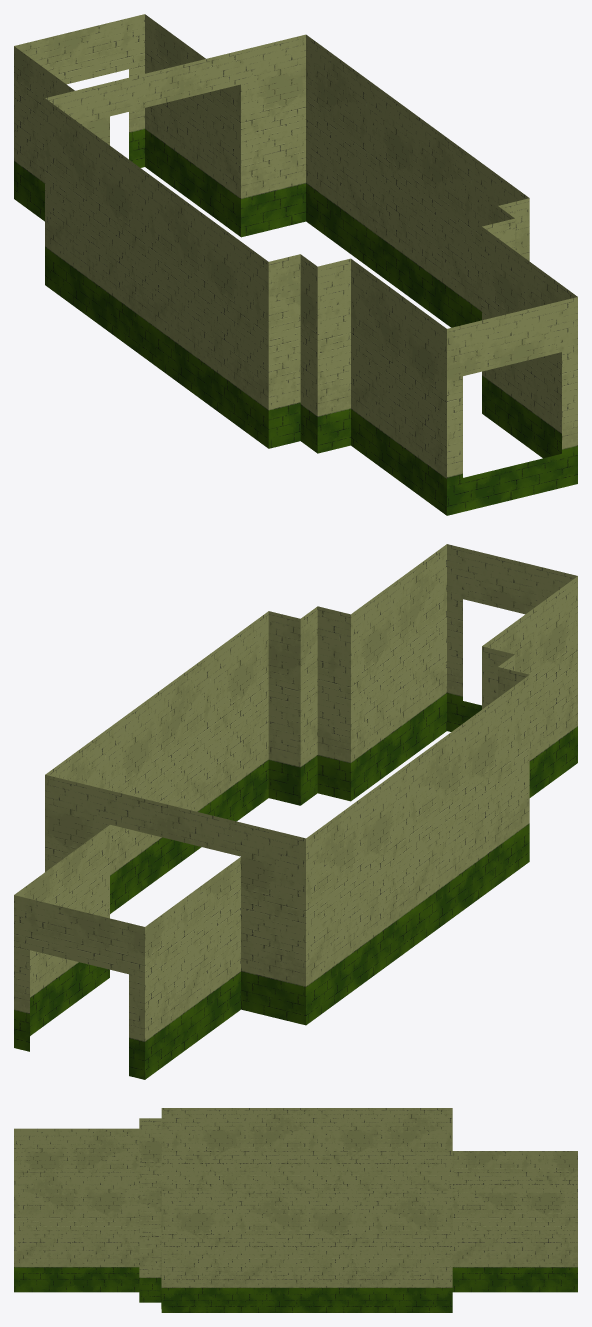
The model's file is Wall_New.fbx.
3 renders of one model, top to bottom at view 1: azimuth 30°, elevation 25°; view 2: azimuth 150°, elevation 25°; view 3: azimuth 270°, elevation 25°, orthographic. The views are drawn at different scales.
Visible parts, largest first — view 1: Wall_New; view 2: Wall_New; view 3: Wall_New.
Boxes of the visible parts, box(x1,y1,x2,y2) form: Wall_New: box(14, 14, 577, 515); Wall_New: box(14, 544, 577, 1079); Wall_New: box(14, 1108, 577, 1312).
Size of the model in its own units: 1851 by 1268 by 5320.
